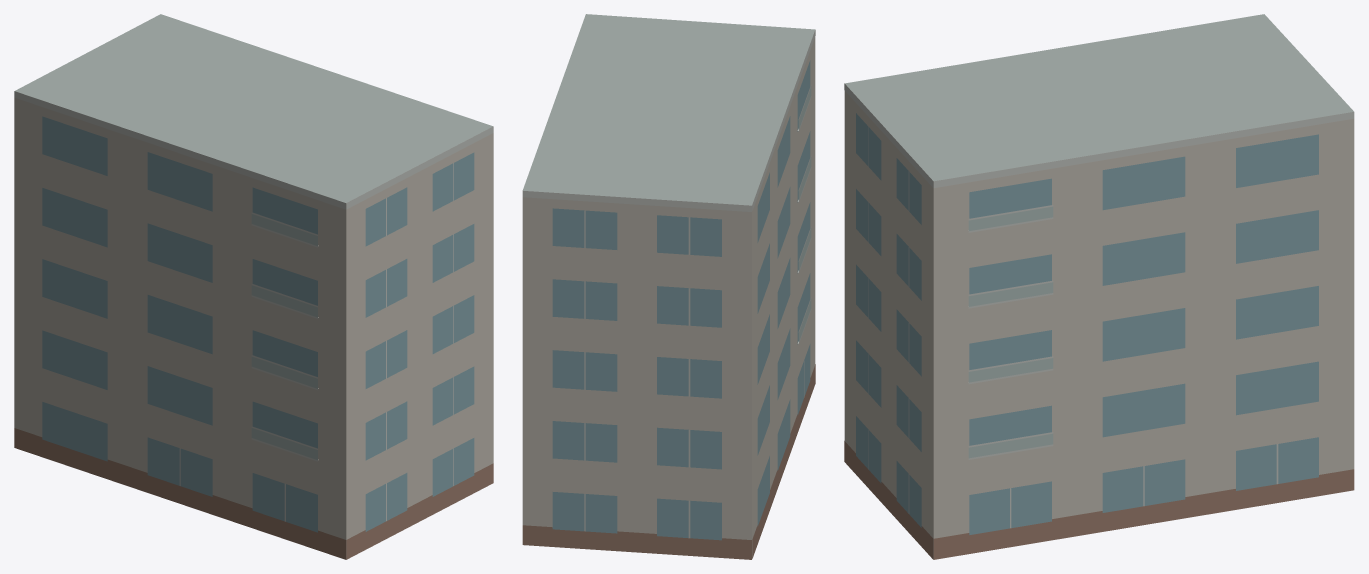
The model's file is survey-upis-32889253.glb.
3 renders of one model, left to right at view 1: azimuth 30°, elevation 25°; view 2: azimuth 150°, elevation 25°; view 3: azimuth 270°, elevation 25°, orthographic. The views are drawn at different scales.
Parts seen in each view (by area): view 1: survey-upis-32889253.tmp; view 2: survey-upis-32889253.tmp; view 3: survey-upis-32889253.tmp.
Part boxes in pixels (x1,y1,x2,y2): survey-upis-32889253.tmp: [14, 14, 493, 559]; survey-upis-32889253.tmp: [522, 14, 815, 559]; survey-upis-32889253.tmp: [844, 14, 1354, 559].
Bounding box in the file's own units: 12.67 × 13.35 × 16.3.
